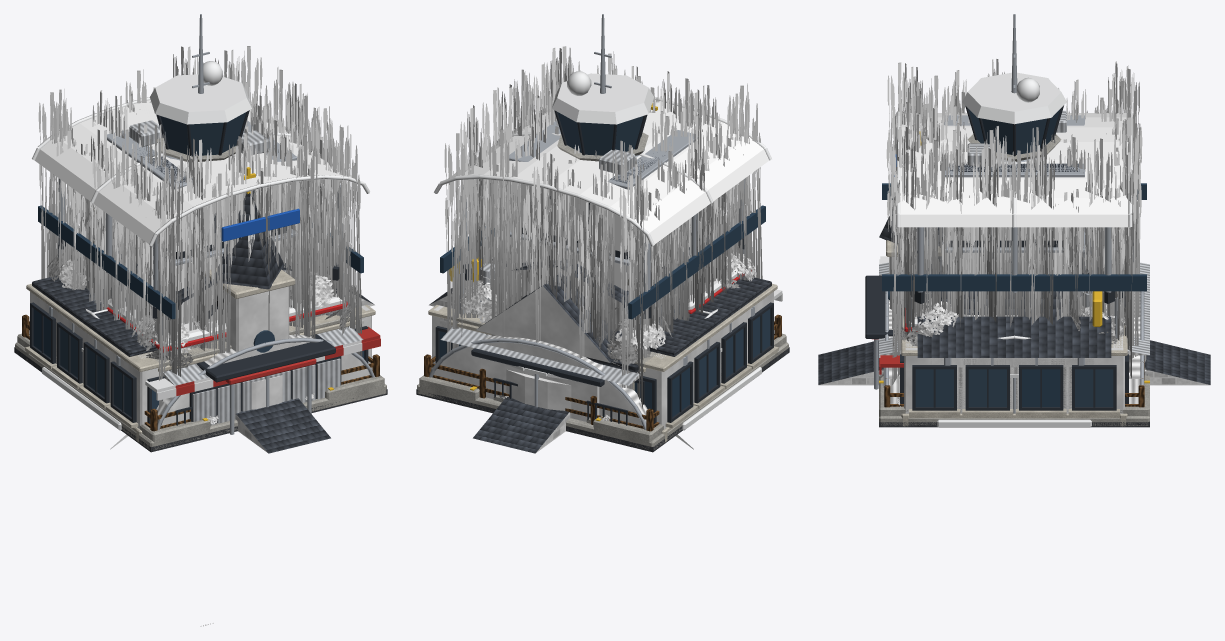
File: city.glb
The picture shows the model from 3 angles, left to right: view 1: azimuth 30°, elevation 25°; view 2: azimuth 150°, elevation 25°; view 3: azimuth 270°, elevation 25°; orthographic projection.
Parts seen in each view (by area): view 1: wheat_crop, metrostation, paddy_crop, mall_base, atc, church, hangar, railstation, tower_roof_tall, factory_roof, park_trees, gasstation (+10 smaller); view 2: wheat_crop, paddy_crop, metrostation, mall_base, atc, tower_roof_tall, railstation, church, gasstation, hangar, factory_roof, park_trees (+8 smaller); view 3: wheat_crop, metrostation, mall_base, paddy_crop, railstation, atc, factory_roof, tower_roof_tall, warehouse, park_trees, hangar, terminal_roof (+6 smaller).
Boxes of the visible parts, x1,y1,x2,y2 form: wheat_crop: [38, 46, 362, 409]; metrostation: [32, 97, 369, 319]; paddy_crop: [51, 81, 347, 356]; mall_base: [25, 283, 375, 428]; atc: [150, 14, 251, 161]; church: [205, 167, 295, 352]; hangar: [29, 330, 374, 429]; railstation: [17, 275, 384, 449]; tower_roof_tall: [107, 20, 297, 290]; factory_roof: [93, 205, 330, 453]; park_trees: [47, 253, 356, 369]; gasstation: [14, 294, 387, 452]; wheat_crop: [444, 46, 762, 408]; paddy_crop: [453, 64, 751, 359]; metrostation: [434, 97, 771, 319]; mall_base: [428, 283, 778, 428]; atc: [552, 14, 653, 161]; tower_roof_tall: [509, 20, 698, 290]; railstation: [419, 259, 786, 449]; church: [476, 103, 657, 362]; gasstation: [416, 257, 789, 452]; hangar: [429, 330, 774, 429]; factory_roof: [473, 238, 654, 453]; park_trees: [451, 252, 756, 366]; wheat_crop: [886, 62, 1142, 384]; metrostation: [882, 111, 1146, 292]; mall_base: [865, 275, 1128, 415]; paddy_crop: [902, 59, 1123, 340]; railstation: [879, 316, 1149, 416]; atc: [962, 14, 1066, 161]; factory_roof: [818, 340, 1210, 385]; tower_roof_tall: [944, 20, 1084, 274]; warehouse: [879, 262, 1149, 413]; park_trees: [894, 291, 1126, 346]; hangar: [883, 291, 1144, 403]; terminal_roof: [937, 419, 1091, 427].
Bounding box in the file's own units: 1.03 × 2.42 × 1.42.
Materials: 44 (25 with a texture image).
